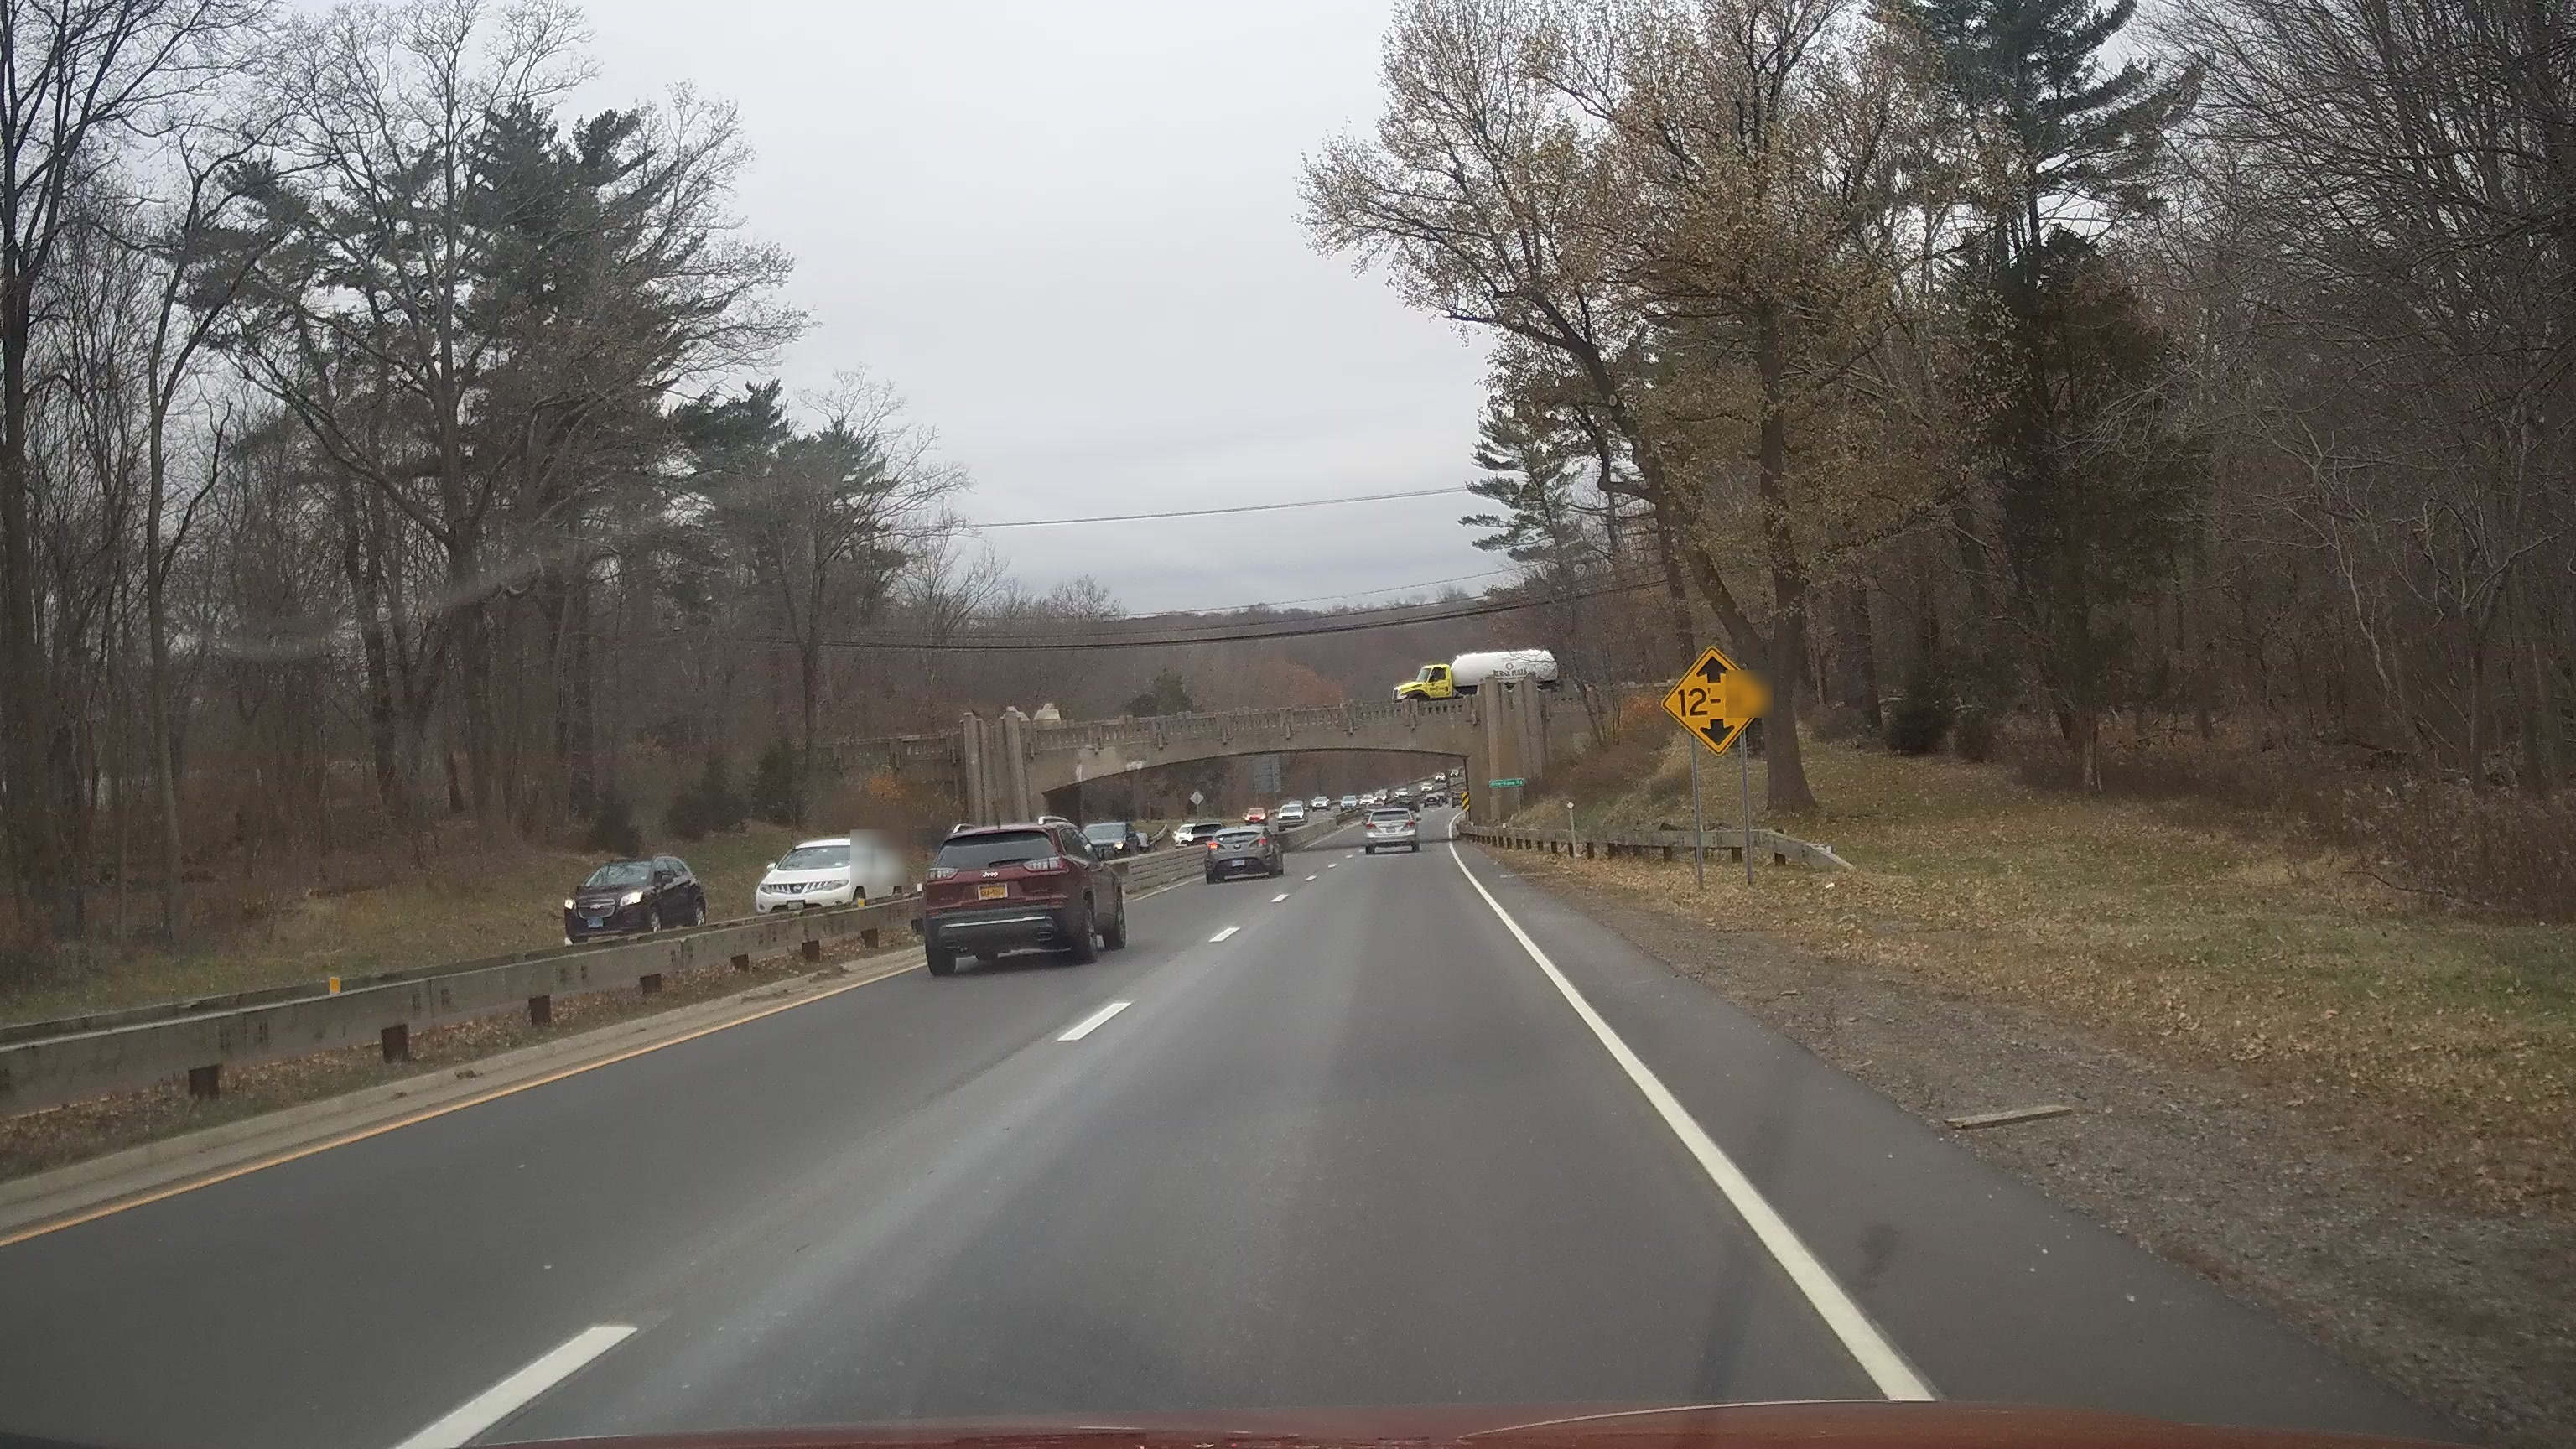low-clearance-sign: (1660, 644, 1767, 757)
